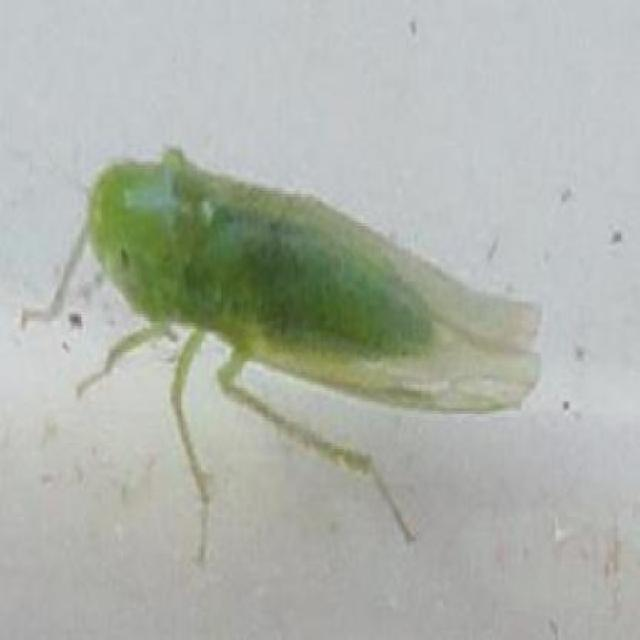green-leafhopper: (22, 151, 543, 564)
